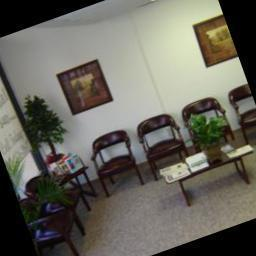Matera: (7, 155, 67, 256)
